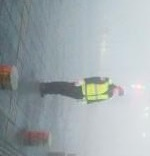person: (38, 73, 127, 107)
